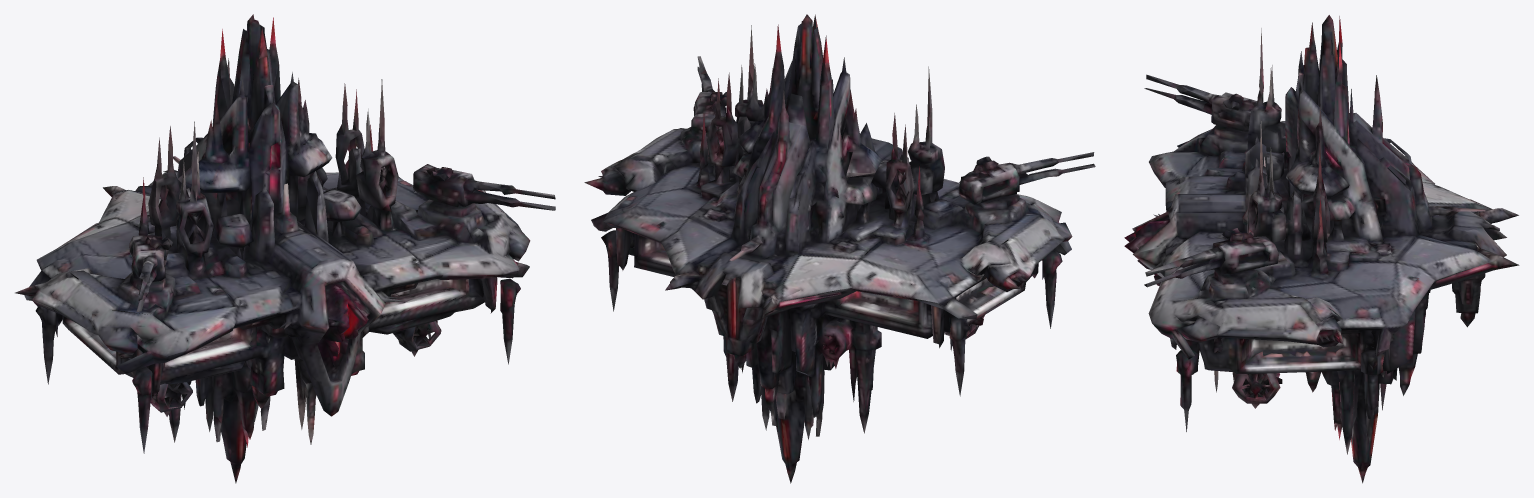
Rendered from HL_Station_Cybermorphs_Military_retopo.glb.
3 views of the same model, side by side, from view 1: azimuth 30°, elevation 25°; view 2: azimuth 150°, elevation 25°; view 3: azimuth 270°, elevation 25° (orthographic). The views are drawn at different scales.
Parts seen in each view (by area): view 1: HL_Station_Cybermorphs_Military_retopo; view 2: HL_Station_Cybermorphs_Military_retopo; view 3: HL_Station_Cybermorphs_Military_retopo.
Boxes of the visible parts, x1,y1,x2,y2 form: HL_Station_Cybermorphs_Military_retopo: [15, 14, 555, 483]; HL_Station_Cybermorphs_Military_retopo: [584, 14, 1095, 483]; HL_Station_Cybermorphs_Military_retopo: [1124, 15, 1519, 483].
Size of the model in its own units: 0.9838 by 0.9869 by 0.7536.
1 material, 1 textured.
